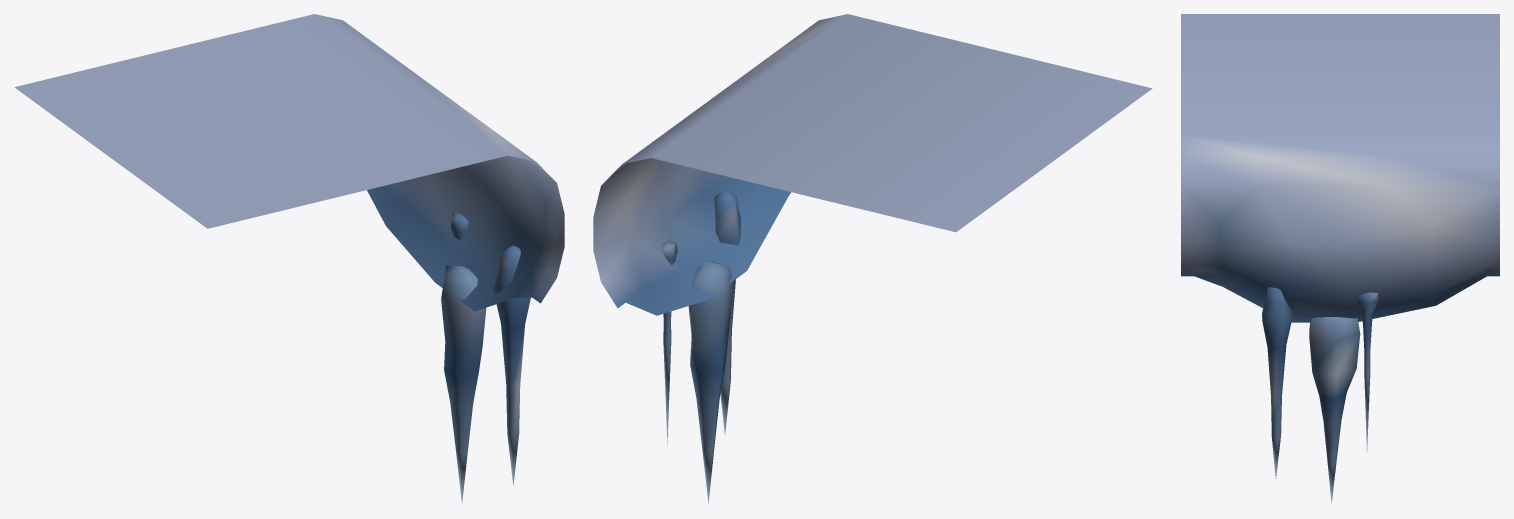
Rendered from Surface_SideUp02.fbx.
3 views of the same model, side by side, from view 1: azimuth 30°, elevation 25°; view 2: azimuth 150°, elevation 25°; view 3: azimuth 270°, elevation 25° (orthographic). The views are drawn at different scales.
Visible parts, largest first — view 1: Surface_SideUp02; view 2: Surface_SideUp02; view 3: Surface_SideUp02.
Part boxes in pixels (x1=…): Surface_SideUp02: x1=14, y1=14, x2=564, y2=503; Surface_SideUp02: x1=593, y1=14, x2=1152, y2=504; Surface_SideUp02: x1=1181, y1=14, x2=1499, y2=503.
Size of the model in its own units: 2269 by 2437 by 2000.
